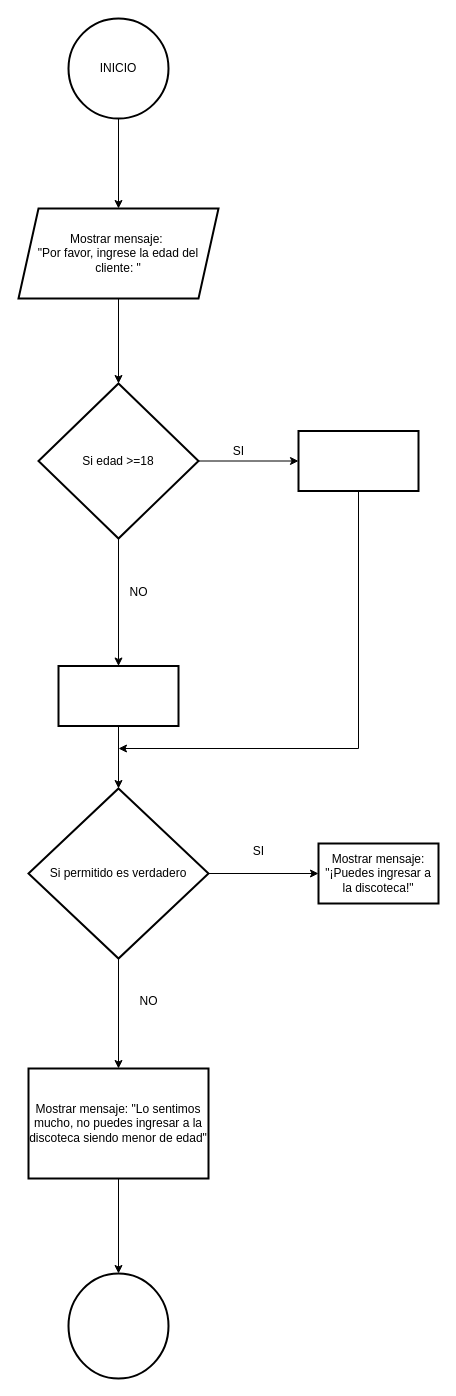
This 456x1396 diagram has some shape labels left out. Here are the shapes that lost their labels. From the top down, the centre of each, then its label:
pixel 358 461: asignarle a la variable permitido en caso verdadero
pixel 118 695: asignarle a la variable permitido en caso falso
pixel 118 1325: FIN
